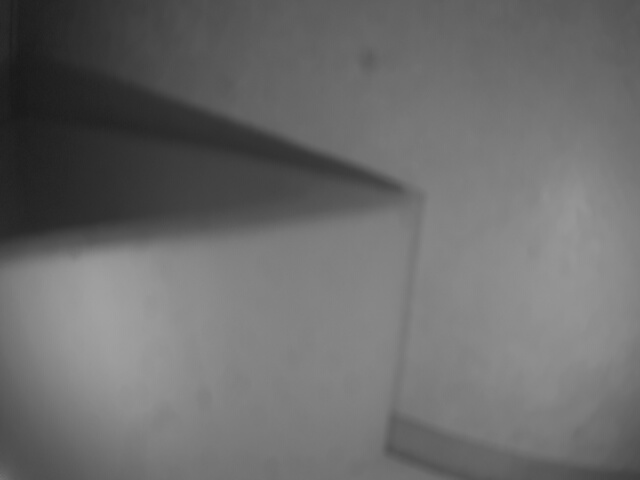Red: (2, 195, 418, 479)
